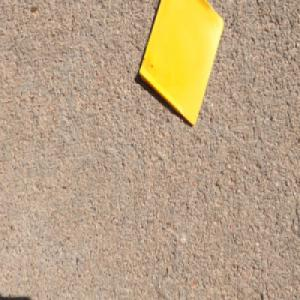PlasticPart: (136, 0, 225, 126)
